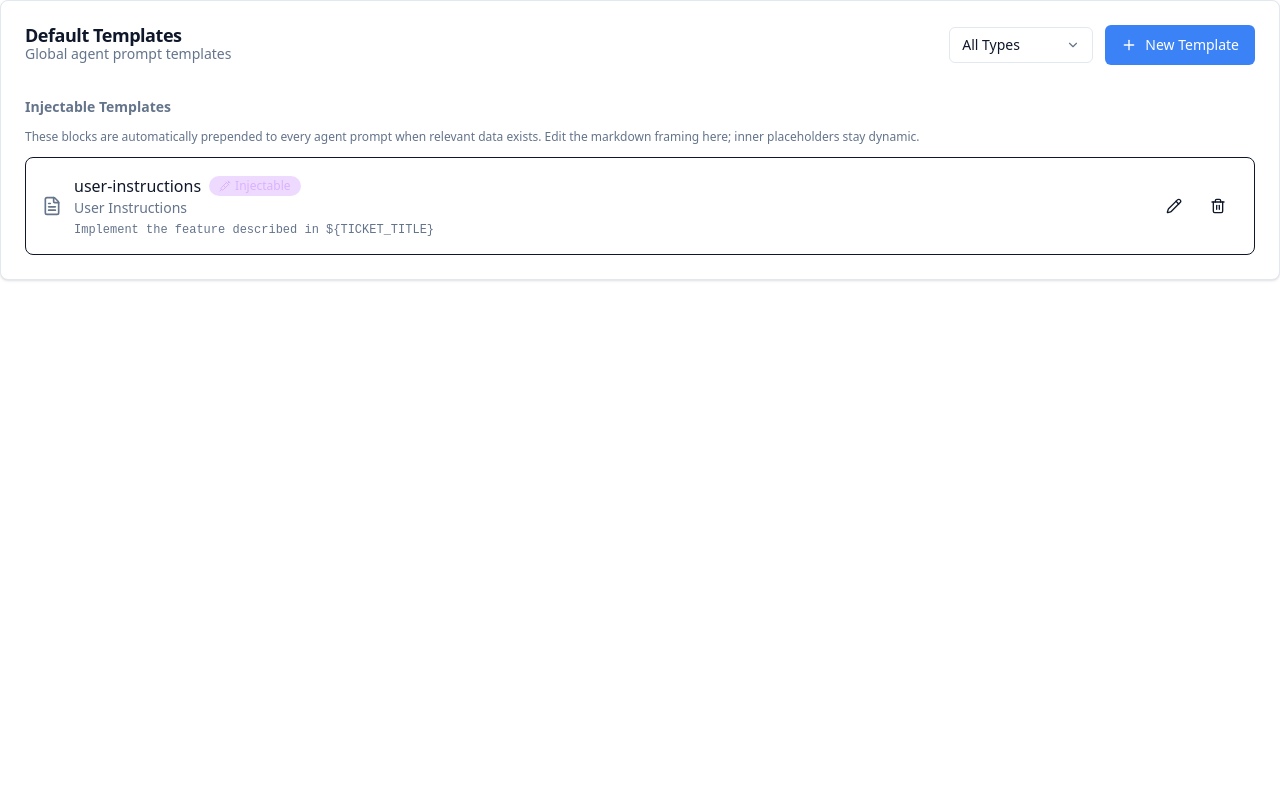
Test: DefaultTemplateForm — type field › shows injectable cheatsheet when editing injectable template
Check: the text "user-instructions" is shown, box [74,174,201,198]
Click the 3rd button: (1174, 206) [1154,186,1194,226]
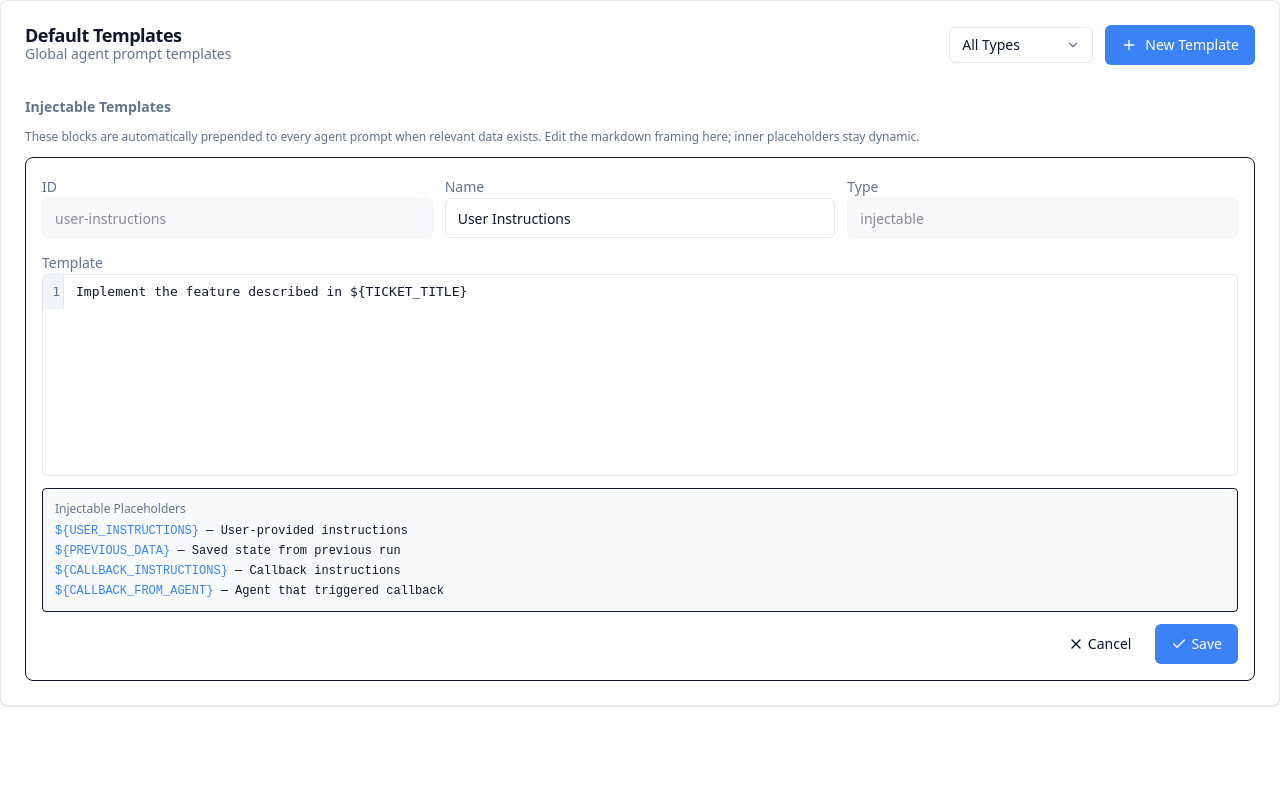
Check: the text "Injectable Placeholders" is shown, box [55,500,186,517]
Check: the text "${USER_INSTRUCTIONS}" is shown, box [55,524,199,538]
Check: the text "${PREVIOUS_DATA}" is shown, box [55,544,170,558]
